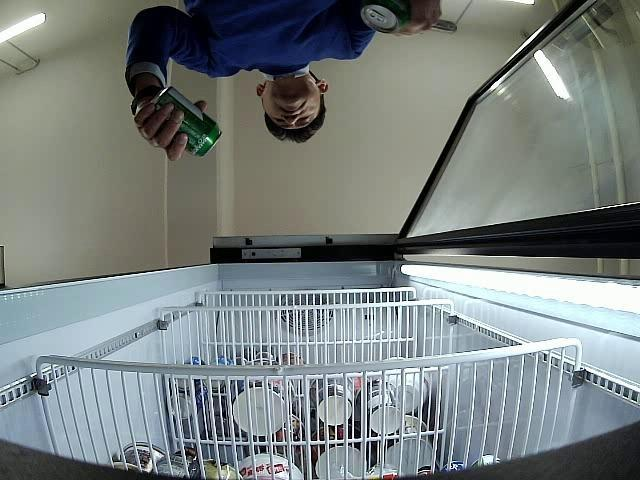12_chilsungCider: (148, 85, 222, 160), (359, 0, 412, 35)
